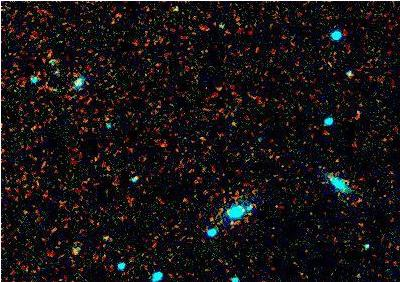star: (216, 205, 246, 235)
